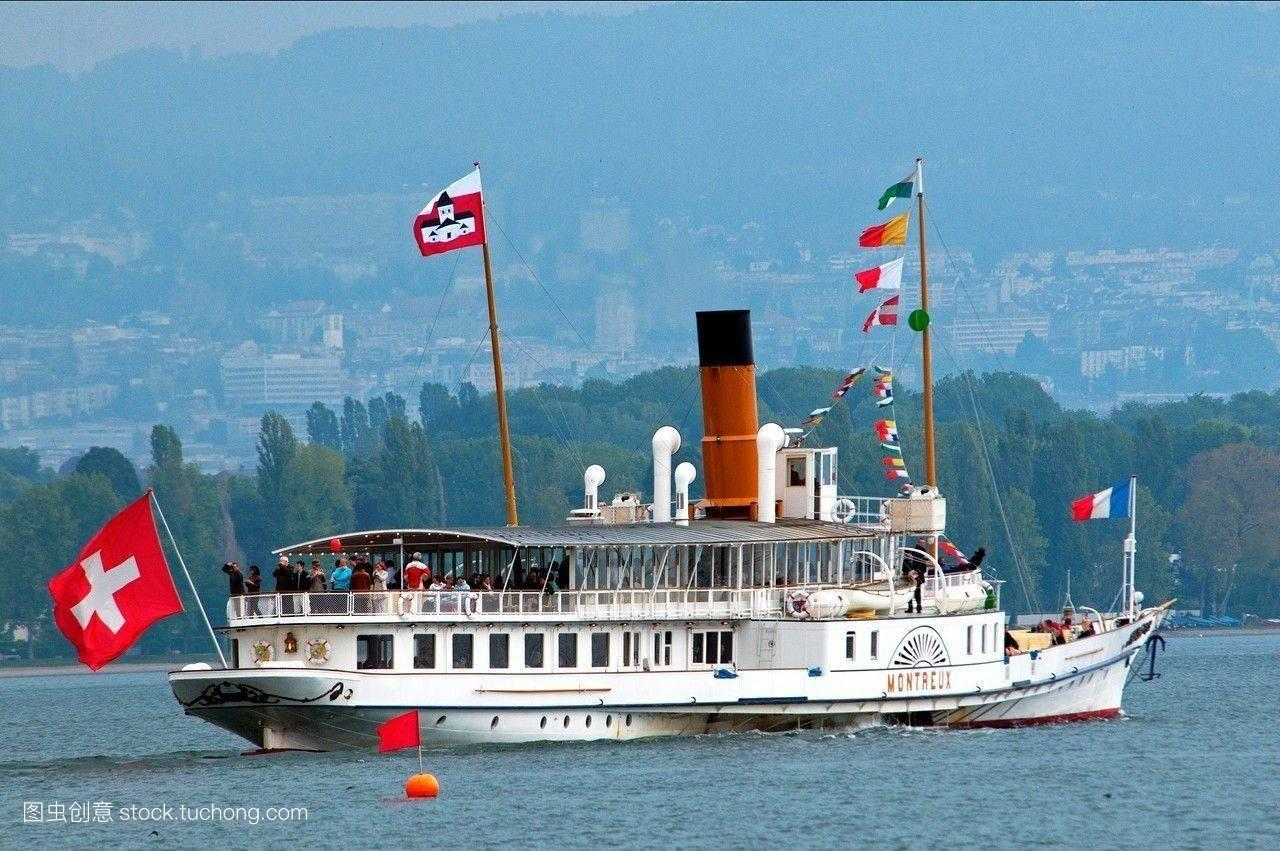otherboat: (165, 302, 1198, 772)
